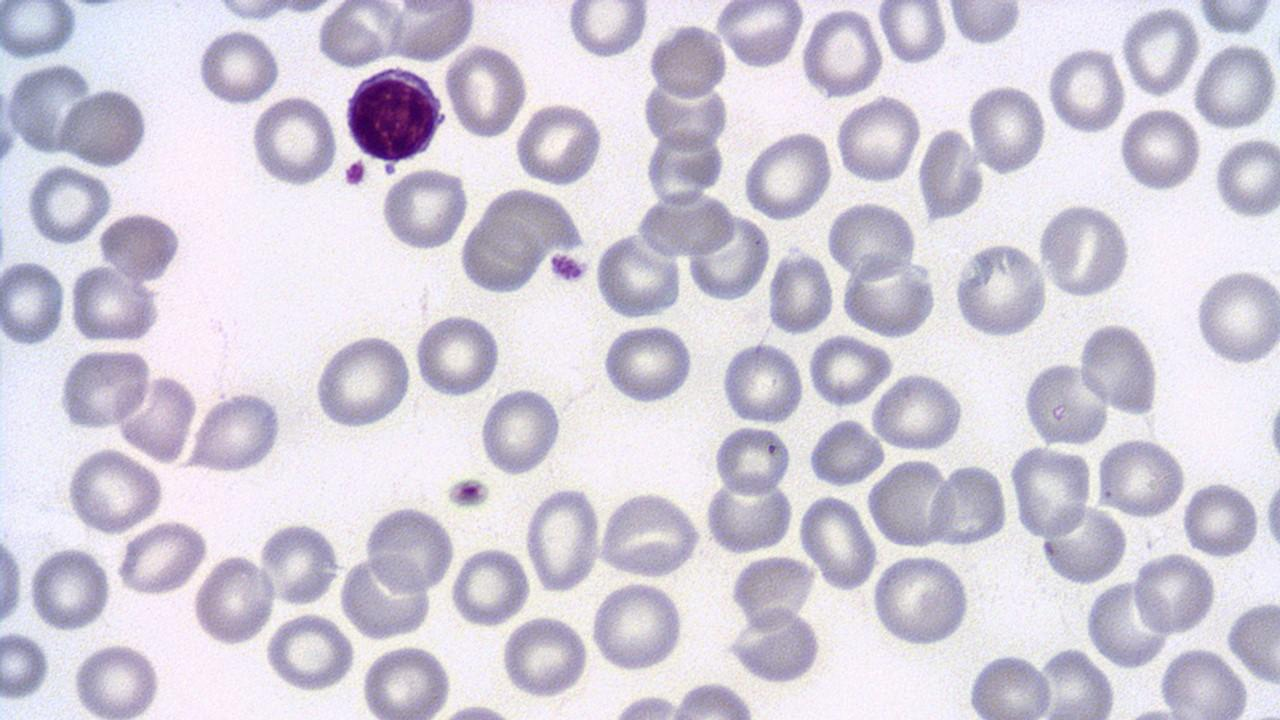Platelets: (443, 474, 490, 511), (546, 249, 592, 286), (1265, 396, 1280, 470), (342, 158, 367, 189), (384, 159, 398, 178)
RBC: (312, 331, 414, 430), (869, 553, 974, 649), (951, 238, 1047, 339), (596, 490, 702, 578), (1040, 202, 1134, 298), (62, 448, 165, 534), (590, 580, 686, 672), (1193, 266, 1279, 368), (187, 386, 284, 476), (248, 93, 338, 190), (336, 552, 434, 640), (442, 41, 528, 141), (740, 130, 834, 221), (524, 485, 602, 593), (363, 504, 456, 594), (798, 490, 880, 592), (512, 99, 604, 189), (834, 93, 922, 187), (1078, 320, 1162, 418), (4, 64, 92, 157), (866, 457, 954, 550), (58, 345, 152, 432), (870, 369, 966, 454), (600, 322, 696, 407), (1009, 441, 1091, 540), (840, 255, 936, 339), (723, 603, 823, 683), (191, 553, 276, 647), (1082, 578, 1170, 668), (1190, 41, 1278, 131), (499, 613, 590, 700), (262, 610, 356, 694), (1021, 358, 1109, 447), (59, 83, 149, 170), (378, 166, 469, 252), (800, 6, 883, 100), (966, 81, 1048, 176), (412, 310, 500, 398), (478, 386, 564, 476), (1096, 435, 1188, 519), (824, 198, 918, 280), (116, 368, 196, 464), (592, 233, 682, 318), (1120, 5, 1200, 100), (1040, 500, 1128, 586), (27, 544, 112, 633), (24, 163, 112, 248), (686, 212, 769, 302), (66, 264, 159, 344), (1046, 44, 1126, 136), (114, 518, 208, 596), (1132, 550, 1216, 636), (1118, 106, 1202, 192), (720, 339, 804, 425), (702, 474, 792, 554), (930, 460, 1010, 550), (358, 644, 455, 718), (448, 544, 531, 629), (195, 26, 282, 107), (71, 641, 162, 718), (258, 520, 339, 606), (728, 552, 817, 629), (644, 124, 726, 206), (1158, 645, 1250, 718), (917, 124, 985, 222), (648, 20, 728, 103), (458, 216, 542, 295), (640, 188, 730, 260), (97, 209, 183, 282), (1182, 479, 1260, 559), (806, 334, 890, 408), (964, 652, 1054, 718), (713, 424, 791, 500), (1037, 644, 1117, 718), (0, 258, 66, 347), (766, 248, 834, 334), (1213, 132, 1279, 220), (718, 0, 802, 68), (316, 1, 397, 68), (390, 1, 476, 63), (806, 416, 880, 488), (565, 1, 649, 61), (1, 0, 78, 60), (1225, 599, 1279, 684), (878, 1, 948, 66), (946, 1, 1024, 47), (670, 678, 759, 718), (0, 628, 50, 699), (1193, 0, 1275, 35), (0, 525, 25, 632), (211, 0, 290, 22)
WBC: (341, 66, 448, 165)
